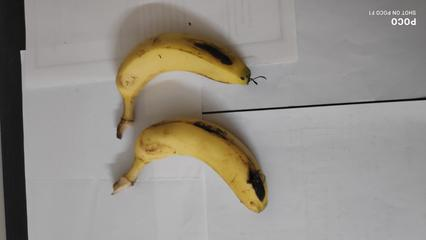banana: (133, 116, 276, 214), (112, 32, 256, 98)
